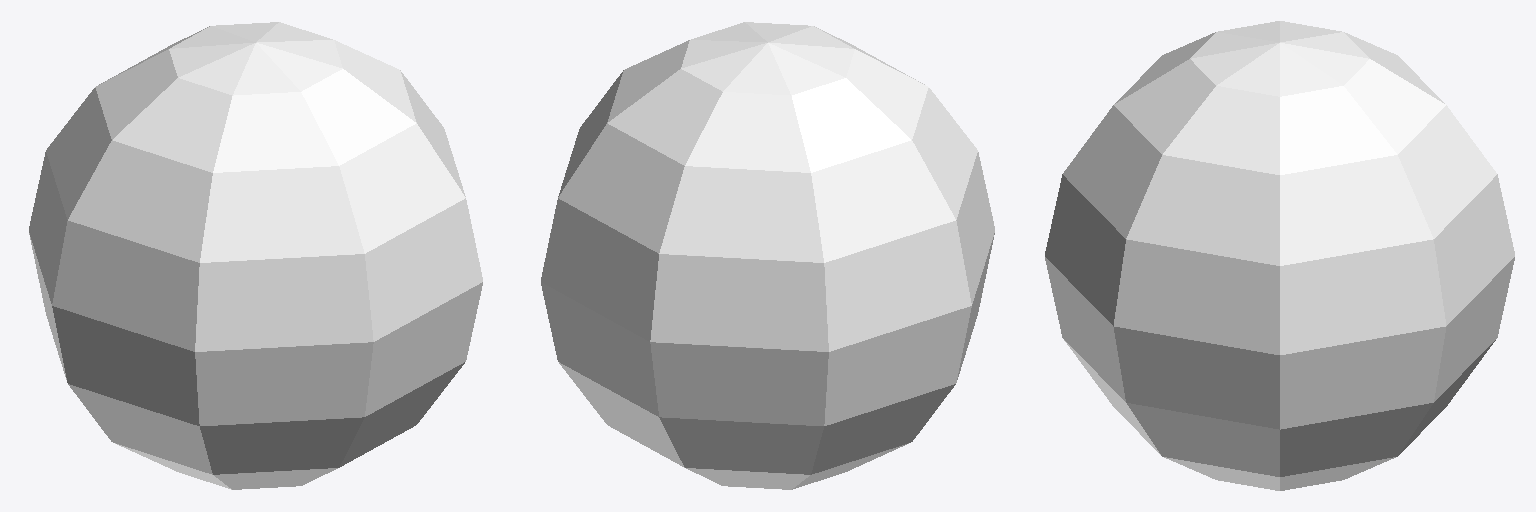
The model's file is sougen.obj.
3 renders of one model, left to right at view 1: azimuth 30°, elevation 25°; view 2: azimuth 150°, elevation 25°; view 3: azimuth 270°, elevation 25°, orthographic.
Visible parts, largest first — view 1: Mesh_001; view 2: Mesh_001; view 3: Mesh_001.
Part boxes in pixels (x1,y1,x2,y2): Mesh_001: (29, 22, 482, 489); Mesh_001: (541, 22, 994, 489); Mesh_001: (1045, 21, 1514, 490).
Size of the model in its own units: 139 by 139 by 139.